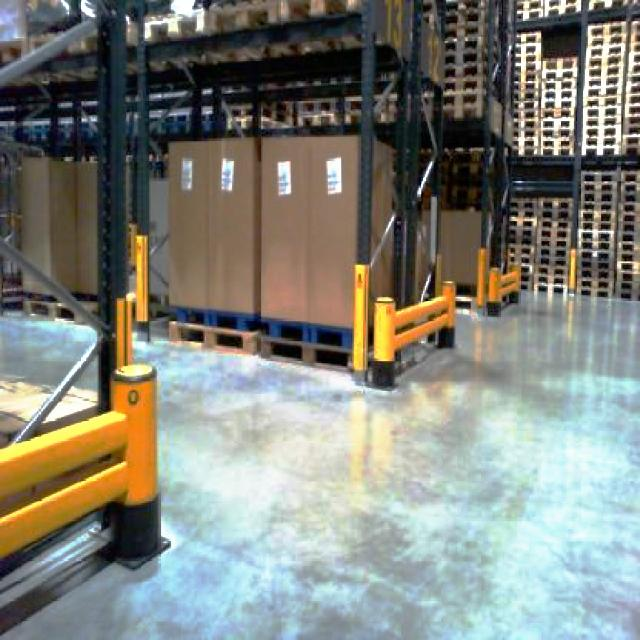ground: (0, 285, 638, 638)
pallet: (165, 129, 457, 385), (429, 0, 638, 305), (257, 131, 395, 371), (0, 406, 129, 638), (165, 134, 258, 354), (365, 277, 457, 386)
